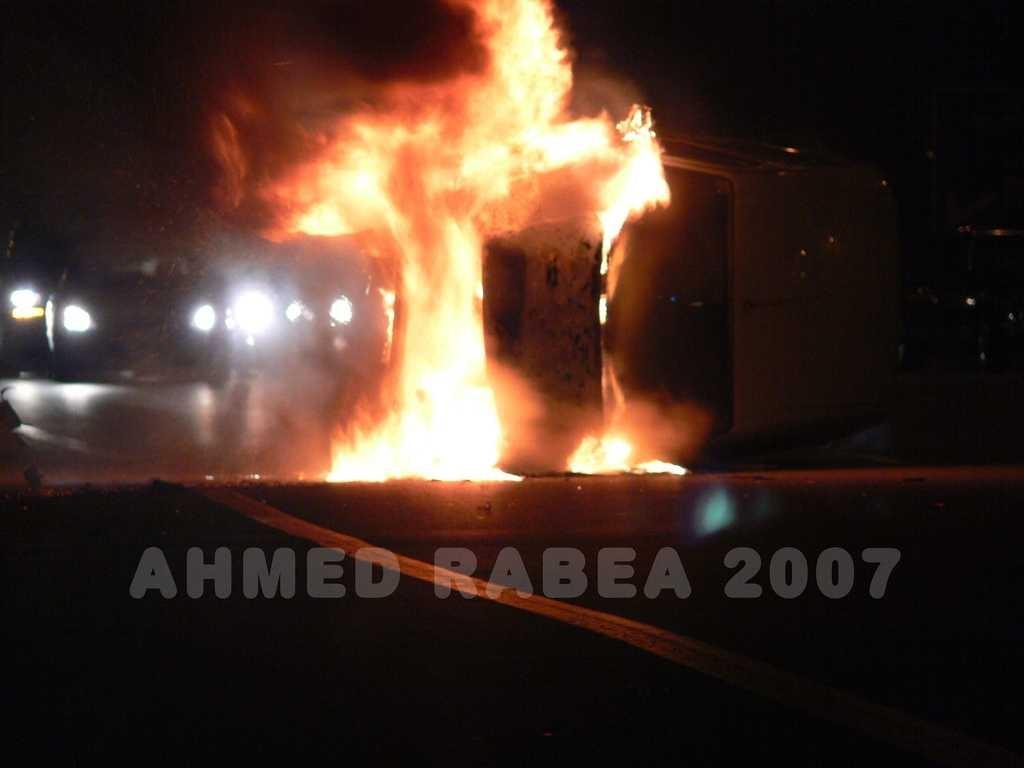fire: (350, 126, 526, 236), (408, 244, 480, 384), (368, 398, 498, 470), (616, 148, 660, 228)
